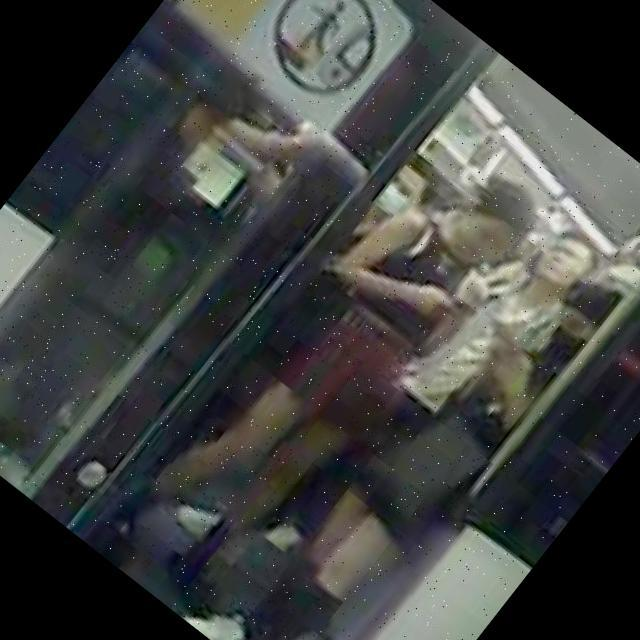person: (88, 108, 550, 635), (176, 198, 630, 640), (344, 197, 623, 510), (324, 141, 459, 293)
